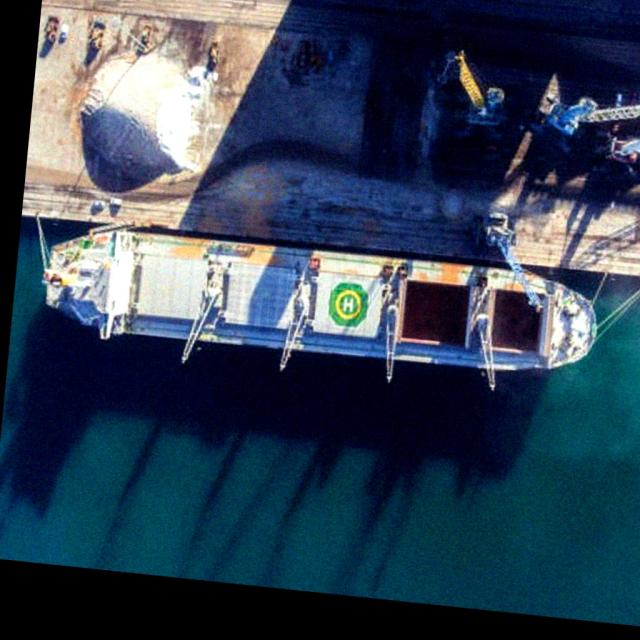helipad: (334, 288, 360, 319)
